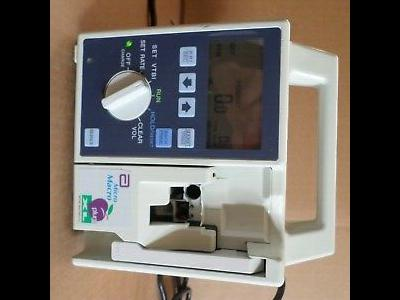plumxl1: (71, 27, 343, 289)
